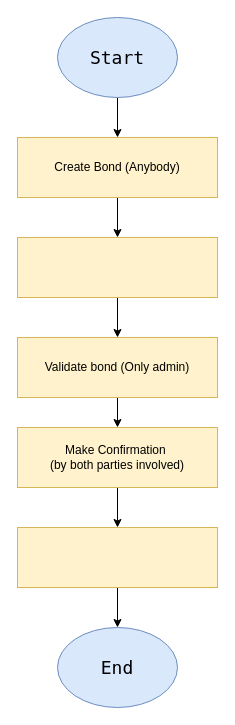
This 235x725 diagram has some shape labels left out. The shapes that lost their labels are listed below. From the top down, each one's centre as x and y in pixels, then its label:
point 117,267: Sign bond (only second party)
point 117,557: Close Bond (by admin only)
